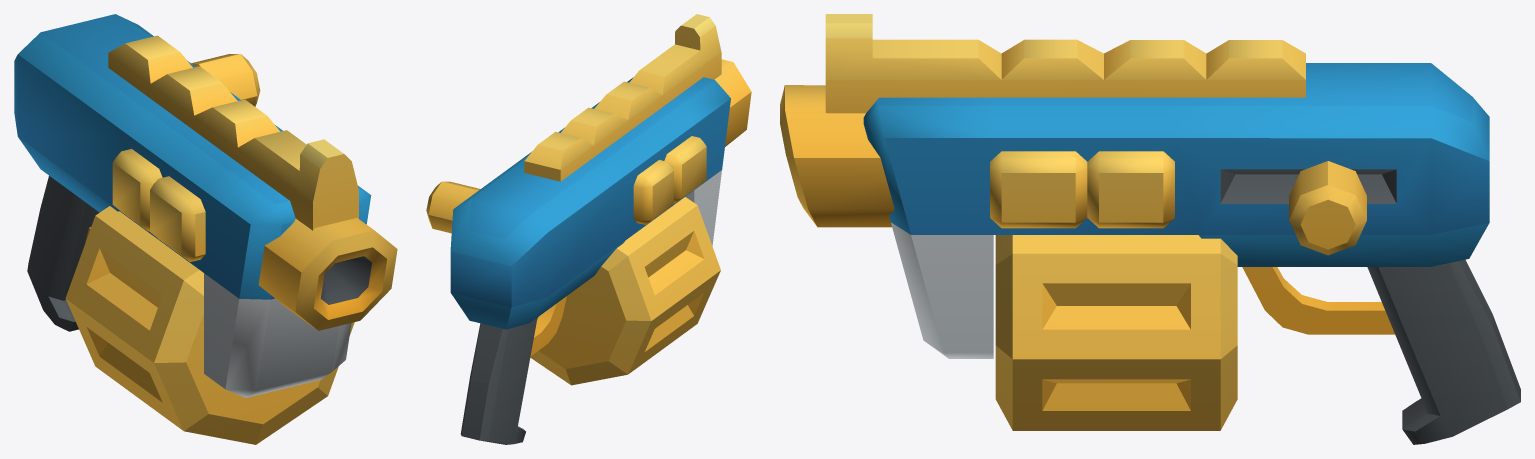
File: Pistol.glb
The picture shows the model from 3 angles, left to right: view 1: azimuth 30°, elevation 25°; view 2: azimuth 150°, elevation 25°; view 3: azimuth 270°, elevation 25°; orthographic projection. The views are drawn at different scales.
Visible parts, largest first — view 1: Gun_Pistol, Gun_Pistol_Magazine; view 2: Gun_Pistol, Gun_Pistol_Magazine; view 3: Gun_Pistol, Gun_Pistol_Magazine.
Boxes of the visible parts, x1=… form: Gun_Pistol: x1=14, y1=14, x2=397, y2=397; Gun_Pistol_Magazine: x1=65, y1=206, x2=354, y2=444; Gun_Pistol: x1=426, y1=14, x2=751, y2=444; Gun_Pistol_Magazine: x1=530, y1=197, x2=720, y2=385; Gun_Pistol: x1=780, y1=14, x2=1520, y2=444; Gun_Pistol_Magazine: x1=995, y1=235, x2=1237, y2=430.
Size of the model in its own units: 0.3661 by 0.5429 by 0.8741.
Materials: 1 (1 with a texture image).
